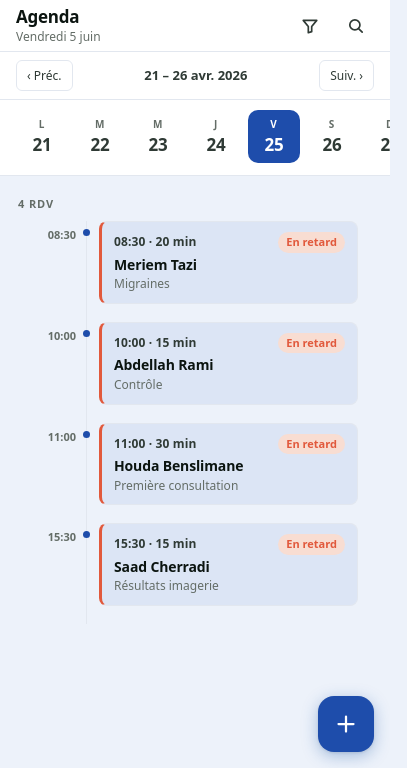
Test: <AgendaMobilePage /> › switching to Mercredi shows Ahmed Cherkaoui with Aspirine allergy
Click the tab "M 23": (158, 136) [132,110,184,163]
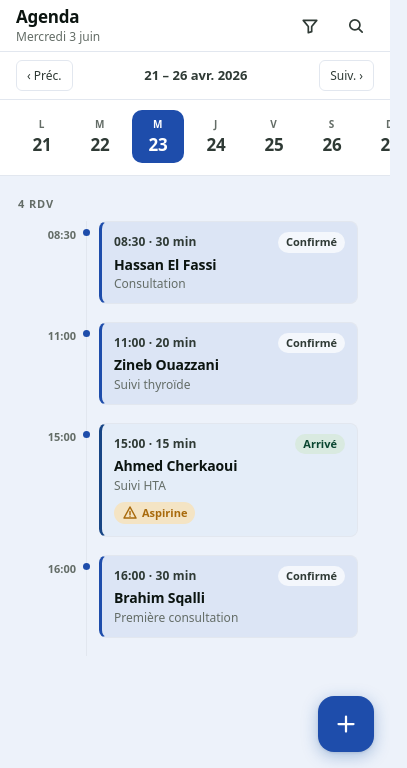
Result: the text "Ahmed Cherkaoui" is shown at [114,456,237,475]
Result: the text "Aspirine" is shown at [114,502,196,524]
